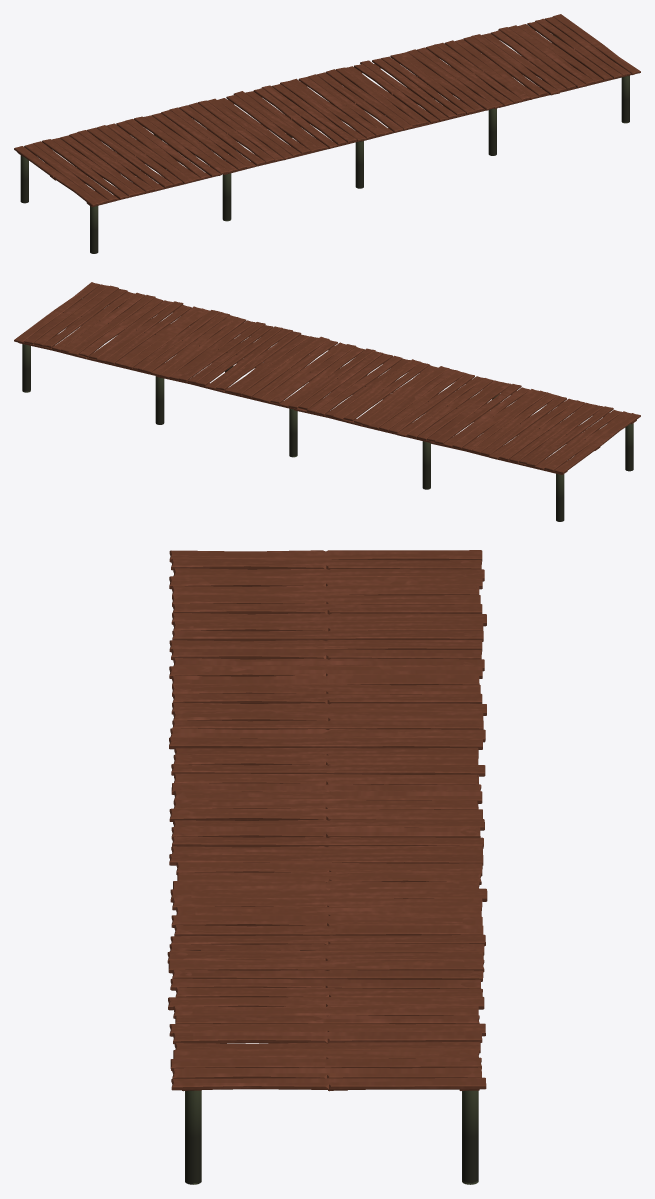
Rendered from Docks.fbx.
The picture shows the model from 3 angles, top to bottom: view 1: azimuth 30°, elevation 25°; view 2: azimuth 150°, elevation 25°; view 3: azimuth 270°, elevation 25°; orthographic projection. The views are drawn at different scales.
Visible parts, largest first — view 1: Cube.073, Cylinder; view 2: Cube.073, Cylinder; view 3: Cube.073, Cylinder.
Boxes of the visible parts, box(x1,y1,x2,y2) form: Cube.073: box(14, 14, 640, 207); Cylinder: box(20, 34, 629, 253); Cube.073: box(14, 282, 640, 474); Cylinder: box(22, 344, 633, 521); Cube.073: box(167, 550, 487, 1091); Cylinder: box(185, 1090, 478, 1184).
Size of the model in its own units: 12.02 by 3.03 by 1.11.
Materials: 2 (2 with a texture image).
